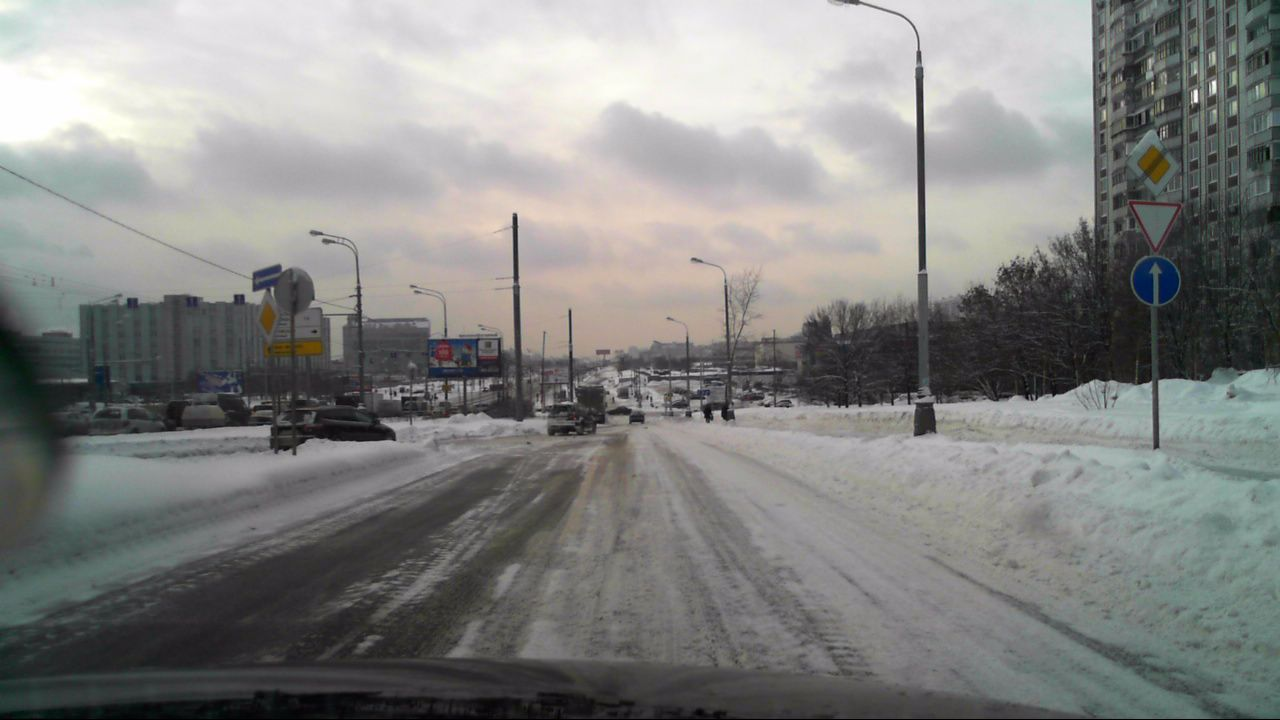main road: (1127, 136, 1176, 199)
